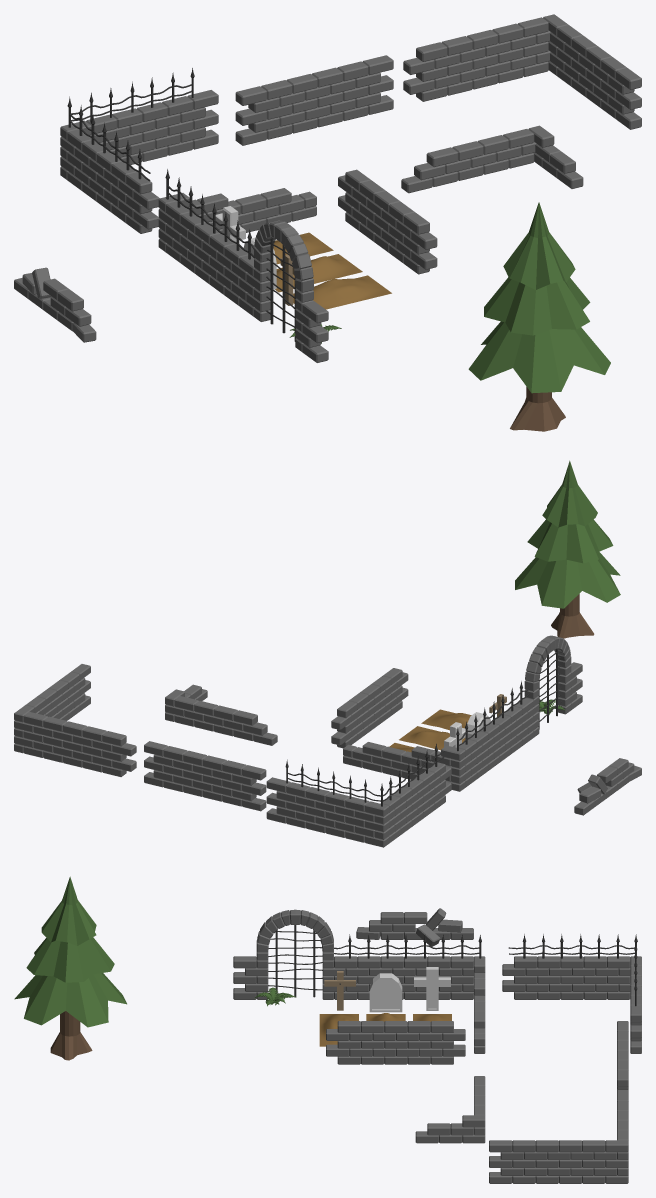
Rendered from TreeLightMap.fbx.
The picture shows the model from 3 angles, top to bottom: view 1: azimuth 30°, elevation 25°; view 2: azimuth 150°, elevation 25°; view 3: azimuth 270°, elevation 25°; orthographic projection. The views are drawn at different scales.
Visible parts, largest first — view 1: Cylinder, Cube.007, Cube.006, Cube.008, Cube.002, Cube.001, Cube.003, Cube.009, Cube, Cube.010, Plane.004, Cube.005 (+3 smaller); view 2: Cylinder, Cube.006, Cube.007, Cube.002, Cube.008, Cube.001, Cube.009, Cube.003, Cube, Cube.010, Plane, Cube.004 (+2 smaller); view 3: Cylinder, Cube.007, Cube.006, Cube.009, Cube.002, Cube.003, Cube, Cube.001, Plane.001, Cube.005, Cube.004, Cube.010 (+4 smaller).
Boxes of the visible parts, bbox=[...] form: Cylinder: bbox=[468, 202, 610, 431]; Cube.007: bbox=[403, 14, 641, 129]; Cube.006: bbox=[60, 90, 218, 233]; Cube.008: bbox=[235, 55, 393, 145]; Cube.002: bbox=[158, 188, 316, 305]; Cube.001: bbox=[401, 125, 583, 193]; Cube.003: bbox=[239, 220, 328, 362]; Cube.009: bbox=[338, 169, 437, 274]; Cube: bbox=[14, 267, 96, 342]; Cube.010: bbox=[67, 68, 194, 181]; Plane.004: bbox=[293, 275, 391, 309]; Cube.005: bbox=[266, 238, 296, 341]; Cylinder: bbox=[515, 460, 620, 638]; Cube.006: bbox=[266, 762, 451, 847]; Cube.007: bbox=[14, 664, 136, 776]; Cube.002: bbox=[343, 706, 527, 791]; Cube.008: bbox=[144, 741, 266, 811]; Cube.001: bbox=[165, 684, 277, 745]; Cube.009: bbox=[331, 668, 408, 748]; Cube.003: bbox=[513, 635, 582, 745]; Cube: bbox=[574, 758, 641, 815]; Cube.010: bbox=[285, 743, 444, 806]; Plane: bbox=[399, 726, 465, 750]; Cube.004: bbox=[456, 681, 529, 751]; Cylinder: bbox=[14, 876, 126, 1060]; Cube.007: bbox=[489, 1091, 628, 1183]; Cube.006: bbox=[502, 956, 641, 1053]; Cube.009: bbox=[326, 1021, 465, 1064]; Cube.002: bbox=[345, 956, 485, 1053]; Cube.003: bbox=[233, 909, 357, 999]; Cube: bbox=[356, 908, 473, 946]; Cube.001: bbox=[415, 1076, 485, 1143]; Plane.001: bbox=[369, 973, 402, 1012]; Cube.005: bbox=[268, 925, 322, 997]; Cube.004: bbox=[334, 934, 481, 958]; Cube.010: bbox=[508, 934, 637, 1006].
Bounding box in the file's own units: 5062 × 1655 × 5395.
